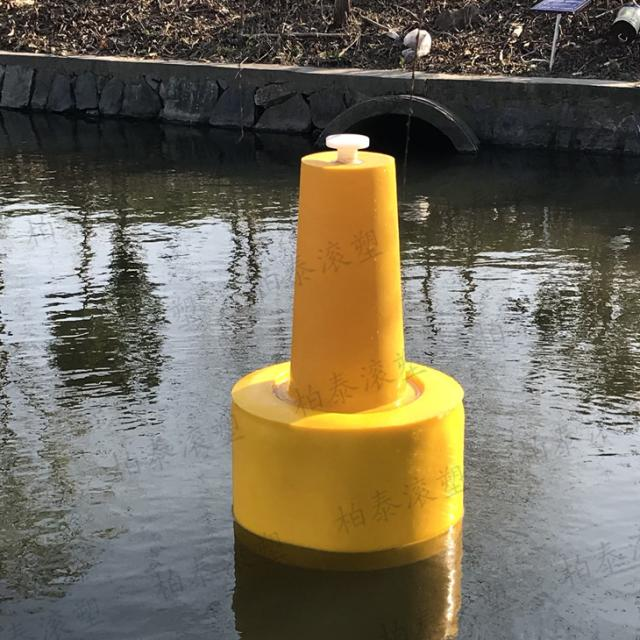buoy: (221, 128, 468, 568)
